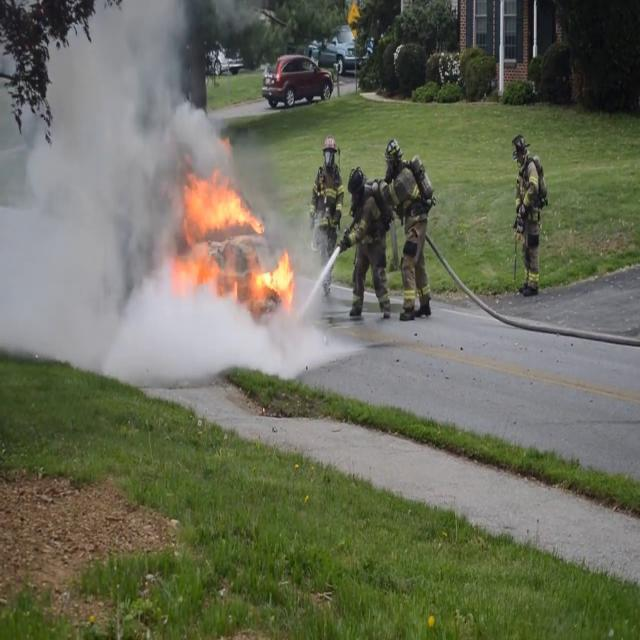Fire: (178, 165, 256, 239), (252, 242, 294, 304)
Smoke: (0, 2, 218, 383)
